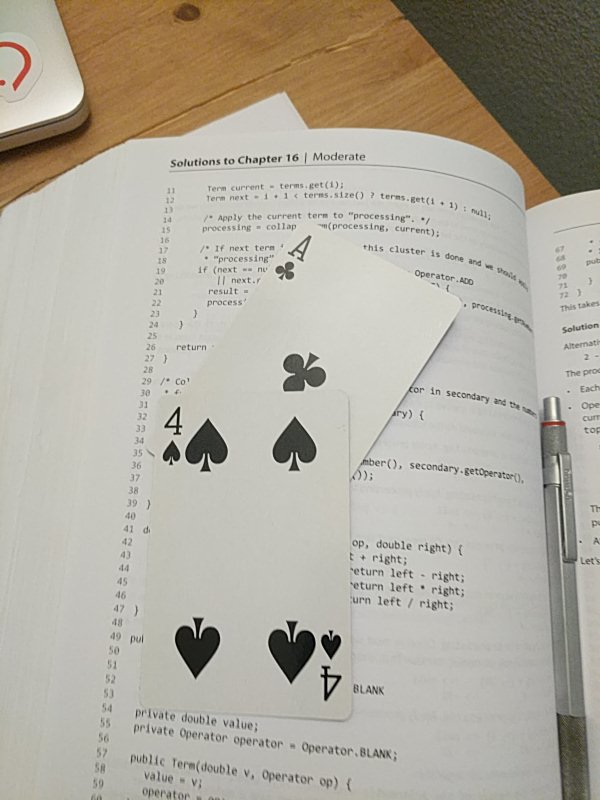Clubs: (173, 217, 463, 477)
Spades: (147, 396, 352, 721)
